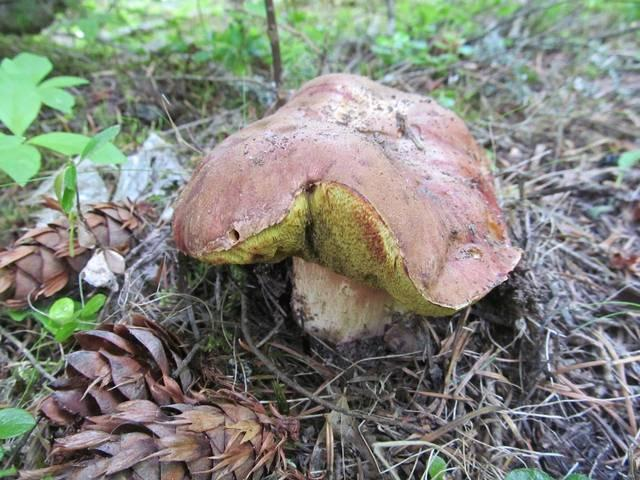Edible Mushroom: (170, 71, 523, 359)
